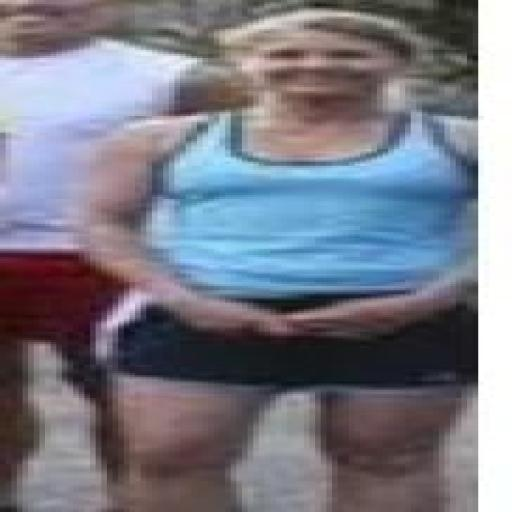person: (85, 9, 472, 511), (0, 0, 219, 511)
